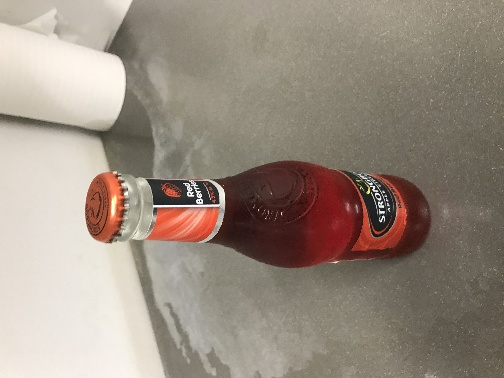SRB: (181, 116, 313, 195), (61, 122, 181, 182)
